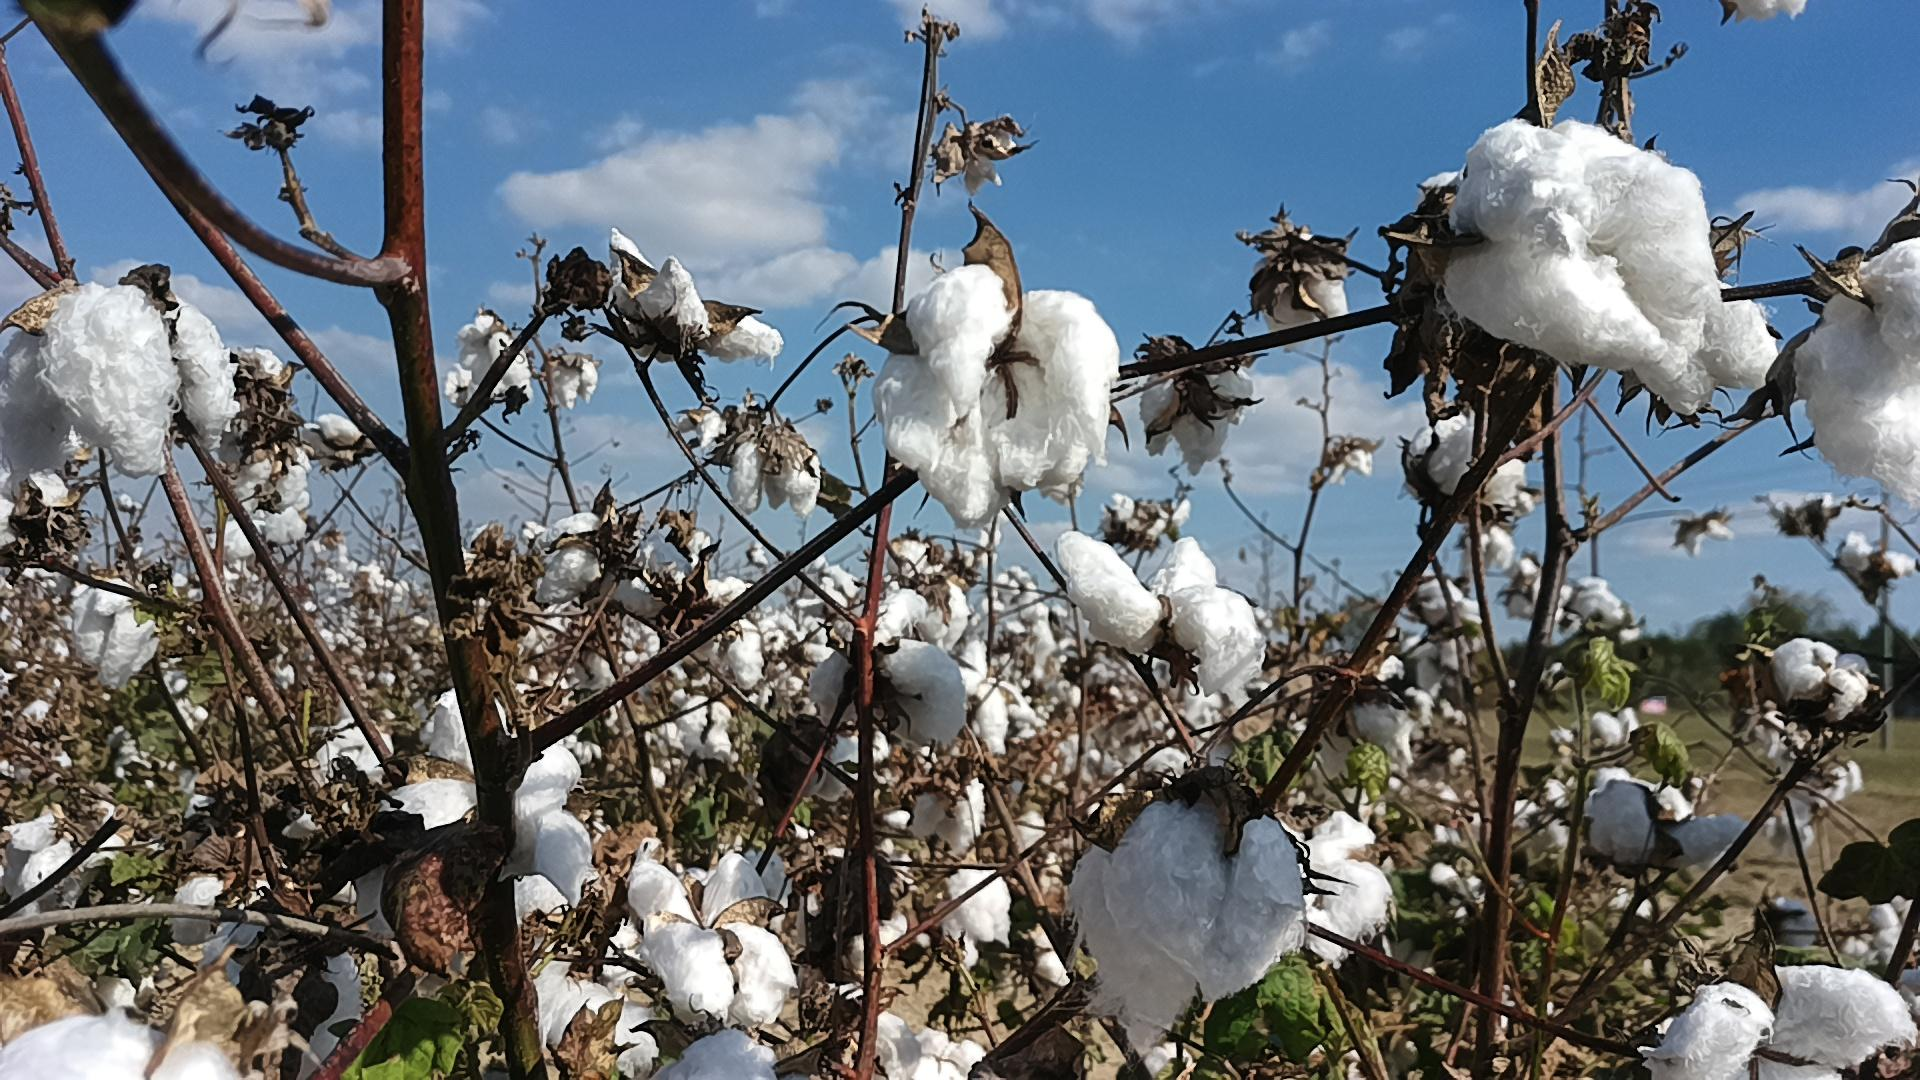cotton_ready: (1437, 117, 1713, 411), (1064, 781, 1312, 1046), (873, 266, 1117, 529), (0, 281, 244, 483), (378, 686, 595, 903), (1054, 530, 1273, 698), (1797, 240, 1920, 513), (1640, 964, 1919, 1080), (625, 852, 799, 1031), (199, 902, 369, 1080), (605, 227, 785, 371), (1630, 278, 1782, 418), (621, 543, 762, 688), (807, 638, 971, 750), (1316, 651, 1433, 806), (529, 944, 659, 1080), (1284, 808, 1395, 967), (0, 1010, 247, 1080), (514, 864, 642, 988), (1585, 781, 1756, 868), (1138, 352, 1255, 477), (1406, 415, 1528, 522), (216, 344, 301, 479), (69, 576, 162, 691), (1254, 231, 1352, 334), (824, 978, 922, 1080), (1772, 637, 1876, 725), (727, 434, 820, 518), (0, 815, 80, 911), (169, 877, 277, 948), (934, 868, 1011, 967), (535, 510, 616, 605), (455, 310, 535, 401), (0, 467, 73, 564), (876, 578, 973, 649), (910, 770, 989, 856), (650, 1030, 782, 1080), (910, 1026, 993, 1080), (301, 414, 380, 458), (1725, 0, 1811, 24)
